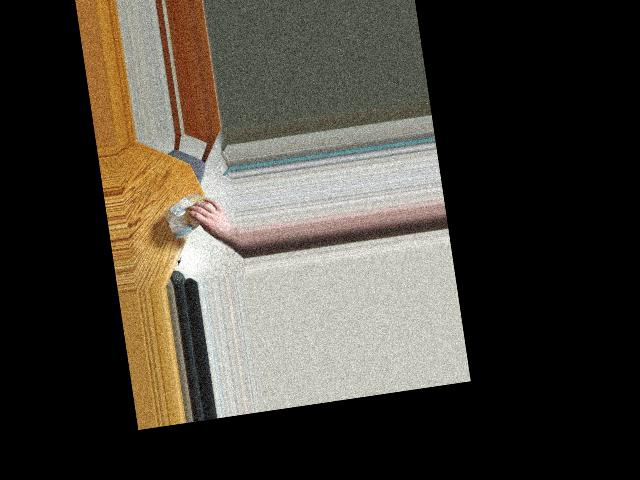cheese: (166, 193, 210, 227)
